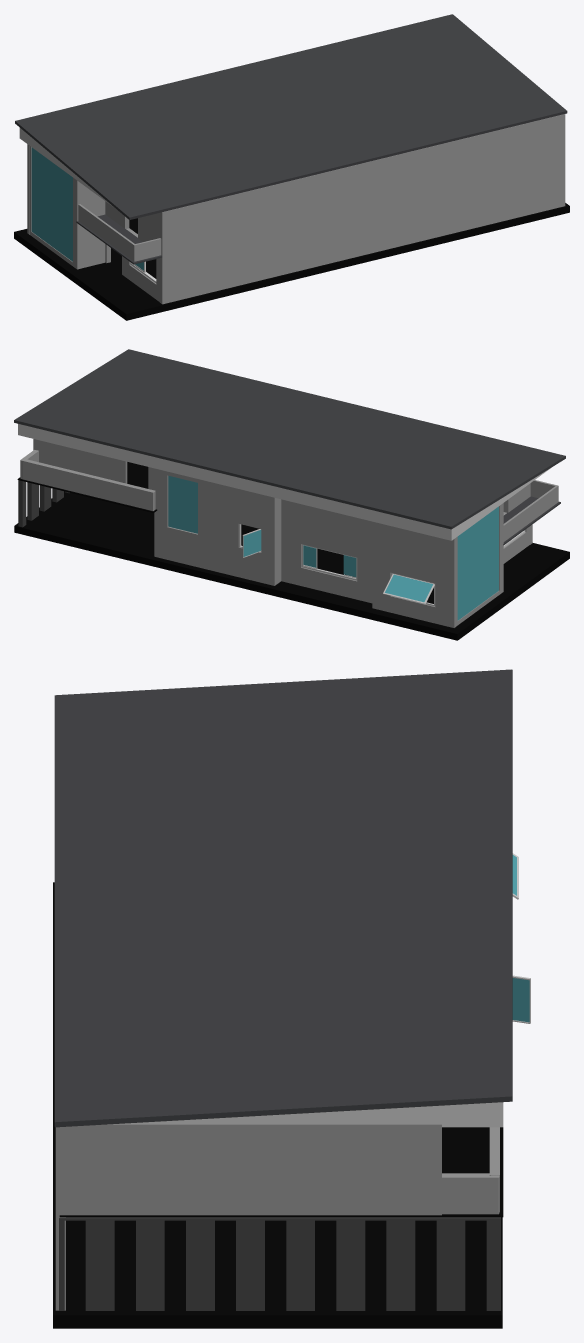
Rendered from casa.glb.
3 views of the same model, one above another, from view 1: azimuth 30°, elevation 25°; view 2: azimuth 150°, elevation 25°; view 3: azimuth 270°, elevation 25° (orthographic). The views are drawn at different scales.
Parts seen in each view (by area): view 1: Rectangle 34, Rectangle 25, Rectangle 14, Rectangle 2.004, Rectangle 35, Boolean 8, Rectangle 22, Boolean 10, Rectangle 30, Rectangle 29, Boolean 9, Rectangle 31; view 2: Rectangle 34, Rectangle 2.004, Boolean 2.004, Boolean 4, Boolean 3, Boolean 9, Rectangle 35, Rectangle 28, Boolean 7, vidro, Boolean.008, Rectangle 30 (+7 smaller); view 3: Rectangle 34, Rectangle 24, Rectangle 2.004, Boolean.008, Boolean 9, Rectangle 23, Rectangle 27.
Part boxes in pixels (x1,y1,x2,y2): Rectangle 34: (15, 14, 567, 219); Rectangle 25: (159, 114, 565, 258); Rectangle 14: (159, 160, 565, 304); Rectangle 2.004: (14, 203, 569, 320); Rectangle 35: (31, 147, 72, 261); Boolean 8: (105, 201, 159, 301); Rectangle 22: (81, 184, 105, 268); Boolean 10: (30, 146, 81, 269); Rectangle 30: (78, 204, 135, 261); Rectangle 29: (76, 214, 162, 264); Boolean 9: (19, 128, 115, 208); Rectangle 31: (134, 238, 161, 261); Rectangle 34: (14, 349, 565, 529); Rectangle 2.004: (14, 491, 569, 640); Boolean 2.004: (156, 469, 276, 585); Boolean 4: (372, 521, 456, 627); Boolean 3: (281, 499, 372, 603); Boolean 9: (18, 424, 551, 540); Rectangle 35: (457, 506, 498, 620); Rectangle 28: (22, 459, 155, 510); Boolean 7: (36, 439, 154, 490); vidro: (168, 475, 197, 533); Boolean.008: (18, 480, 69, 527); Rectangle 30: (503, 486, 558, 541); Rectangle 34: (54, 669, 512, 1127); Rectangle 24: (59, 1124, 441, 1216); Rectangle 2.004: (53, 882, 502, 1328); Boolean.008: (59, 1217, 500, 1310); Boolean 9: (107, 1102, 503, 1127); Rectangle 23: (59, 1127, 503, 1217); Rectangle 27: (442, 1173, 499, 1214).
Size of the model in its own units: 618 by 153 by 288.
